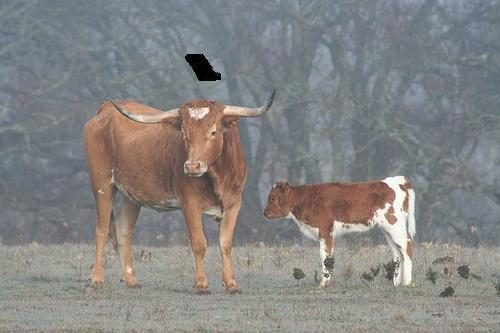tampered: (186, 55, 221, 81)
